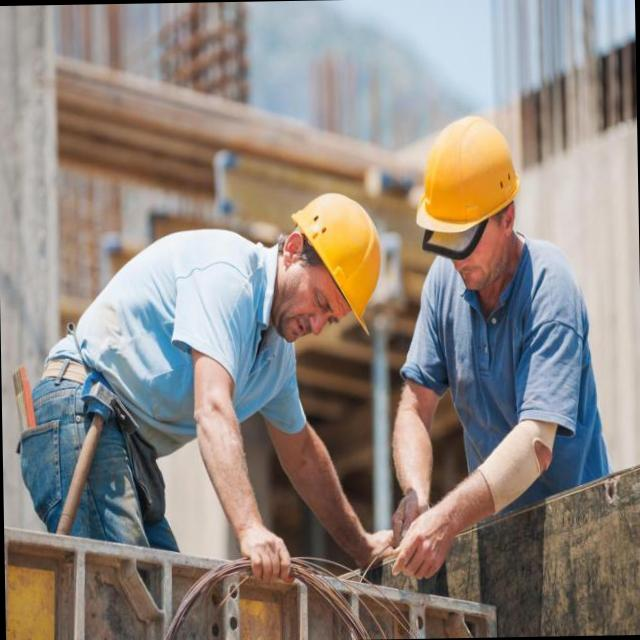Helmet: (401, 116, 526, 228), (294, 192, 389, 324)
